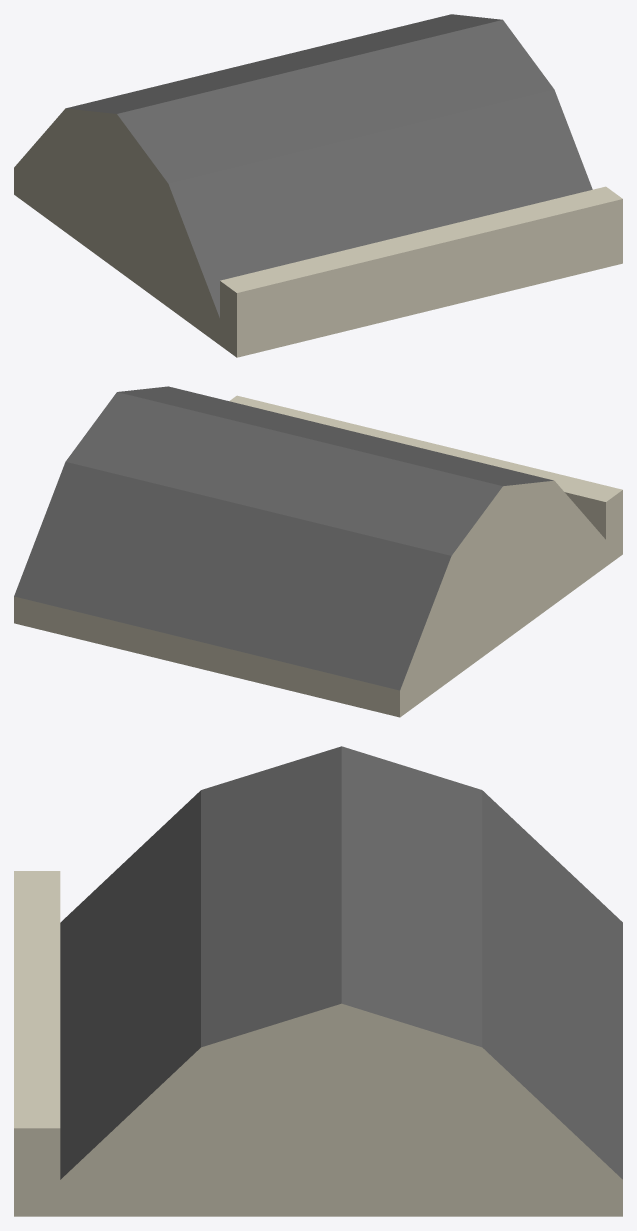
File: Roof 37.FBX
3 views of the same model, one above another, from view 1: azimuth 30°, elevation 25°; view 2: azimuth 150°, elevation 25°; view 3: azimuth 270°, elevation 25° (orthographic). The views are drawn at different scales.
Visible parts, largest first — view 1: Group243; view 2: Group243; view 3: Group243.
Part boxes in pixels (bbox=[...]): Group243: bbox=[14, 14, 622, 357]; Group243: bbox=[14, 386, 622, 717]; Group243: bbox=[14, 746, 622, 1216].
Size of the model in its own units: 29.53 by 11.4 by 29.53.
